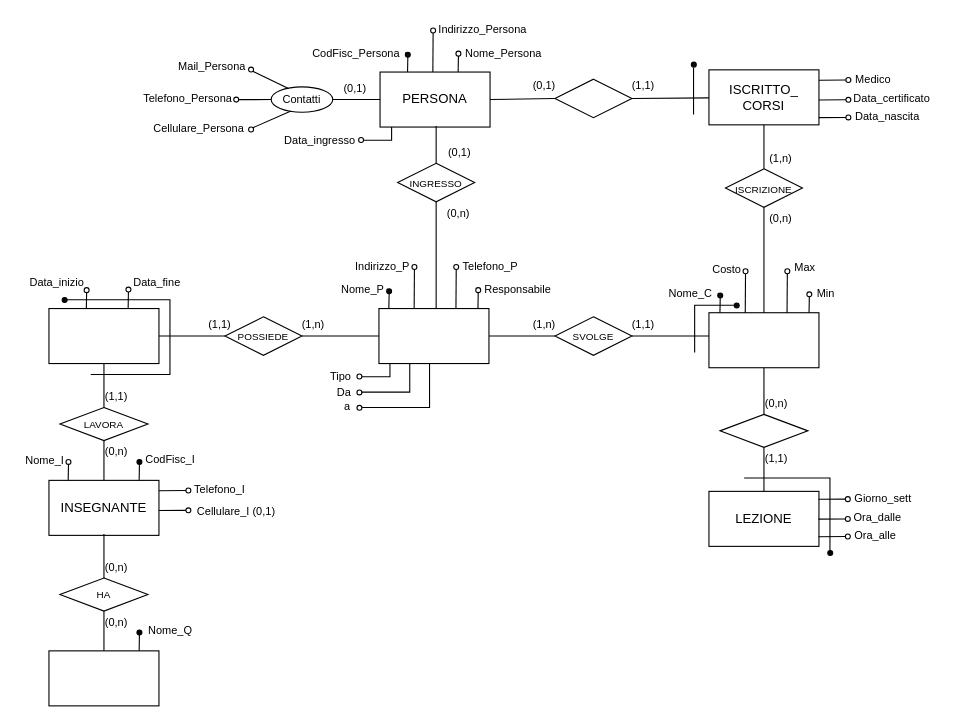
This 955x725 diagram has some shape labels left out. Here are the shapes that lost their labels. From the top down, the centre of each, then its label:
At point 593,98: "E'".
At point 103,335: "ROTAZIONE".
At point 433,335: "PISCINA".
At point 763,340: "CORSO".
At point 763,430: "SPECIFICA".
At point 103,678: "QUALIFICHE".
